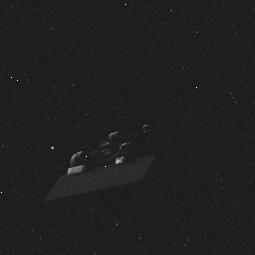proba_3_csc: (42, 107, 216, 202)
